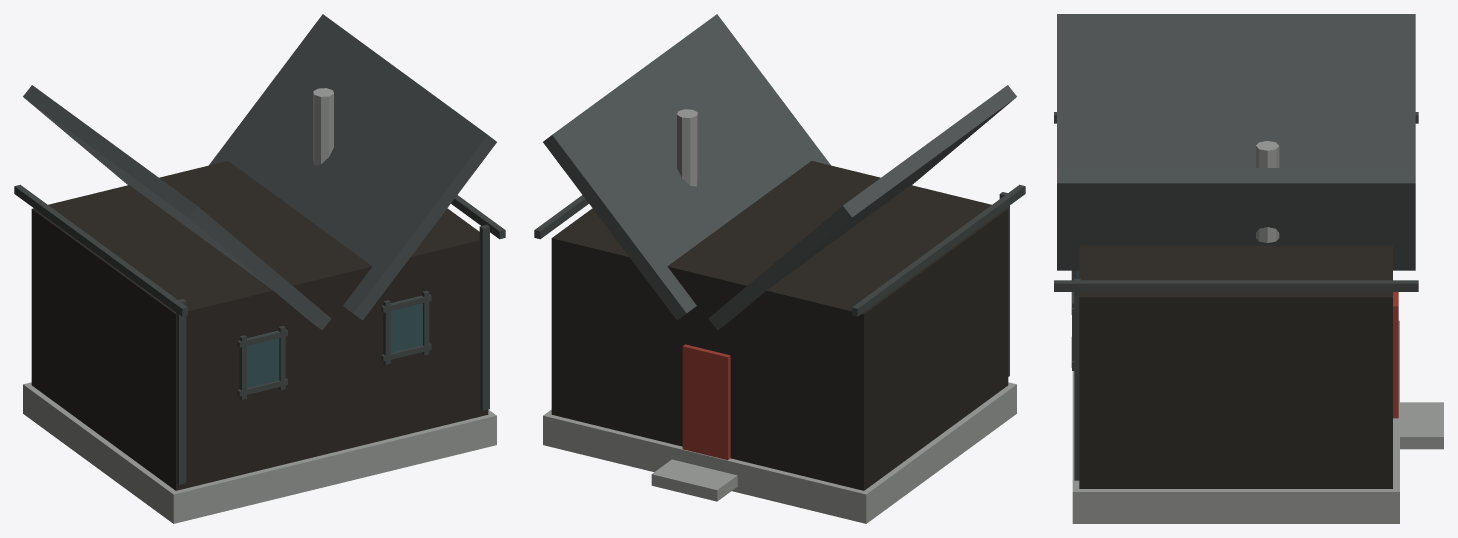
File: norway-house-charcoal-dark_lod0.glb
3 views of the same model, side by side, from view 1: azimuth 30°, elevation 25°; view 2: azimuth 150°, elevation 25°; view 3: azimuth 270°, elevation 25° (orthographic). The views are drawn at different scales.
Parts seen in each view (by area): view 1: RF_House_Walls, RF_House_RoofB, RF_House_Foundation, RF_House_RoofA, RF_House_Fascia, RF_House_Corner, RF_House_Corner.001, RF_House_Chimney, RF_House_WindowRecess, RF_House_WindowRecess.001, RF_House_Fascia.001; view 2: RF_House_Walls, RF_House_RoofB, RF_House_Foundation, RF_House_RoofA, RF_House_Door, RF_House_Fascia, RF_House_Threshold, RF_House_Chimney, RF_House_Fascia.001; view 3: RF_House_Walls, RF_House_RoofA, RF_House_RoofB, RF_House_Foundation, RF_House_Fascia.001, RF_House_Threshold, RF_House_Corner.001, RF_House_Chimney, RF_House_Door.
Part boxes in pixels (left/top/right/bottom): RF_House_Walls: left=31, top=161, right=488, bottom=490; RF_House_RoofB: left=209, top=14, right=496, bottom=320; RF_House_Foundation: left=23, top=382, right=496, bottom=523; RF_House_RoofA: left=23, top=85, right=331, bottom=330; RF_House_Fascia: left=14, top=184, right=187, bottom=316; RF_House_Corner: left=176, top=299, right=186, bottom=484; RF_House_Corner.001: left=479, top=224, right=489, bottom=410; RF_House_Chimney: left=313, top=88, right=333, bottom=165; RF_House_WindowRecess: left=239, top=330, right=279, bottom=388; RF_House_WindowRecess.001: left=383, top=295, right=422, bottom=353; RF_House_Fascia.001: left=451, top=195, right=505, bottom=239; RF_House_Walls: left=551, top=161, right=1008, bottom=490; RF_House_RoofB: left=543, top=14, right=830, bottom=320; RF_House_Foundation: left=543, top=382, right=1016, bottom=523; RF_House_RoofA: left=708, top=85, right=1016, bottom=330; RF_House_Door: left=682, top=344, right=730, bottom=460; RF_House_Fascia: left=852, top=184, right=1025, bottom=316; RF_House_Threshold: left=651, top=459, right=737, bottom=501; RF_House_Chimney: left=677, top=109, right=697, bottom=186; RF_House_Fascia.001: left=534, top=195, right=588, bottom=239; RF_House_Walls: left=1079, top=245, right=1392, bottom=488; RF_House_RoofA: left=1057, top=14, right=1415, bottom=167; RF_House_RoofB: left=1057, top=168, right=1415, bottom=270; RF_House_Foundation: left=1072, top=320, right=1399, bottom=523; RF_House_Fascia.001: left=1054, top=280, right=1418, bottom=291; RF_House_Threshold: left=1400, top=402, right=1443, bottom=449; RF_House_Corner.001: left=1074, top=278, right=1080, bottom=480; RF_House_Chimney: left=1256, top=141, right=1279, bottom=242; RF_House_Door: left=1393, top=292, right=1398, bottom=418.
Bounding box in the file's own units: 10.35 × 9.78 × 9.95.
